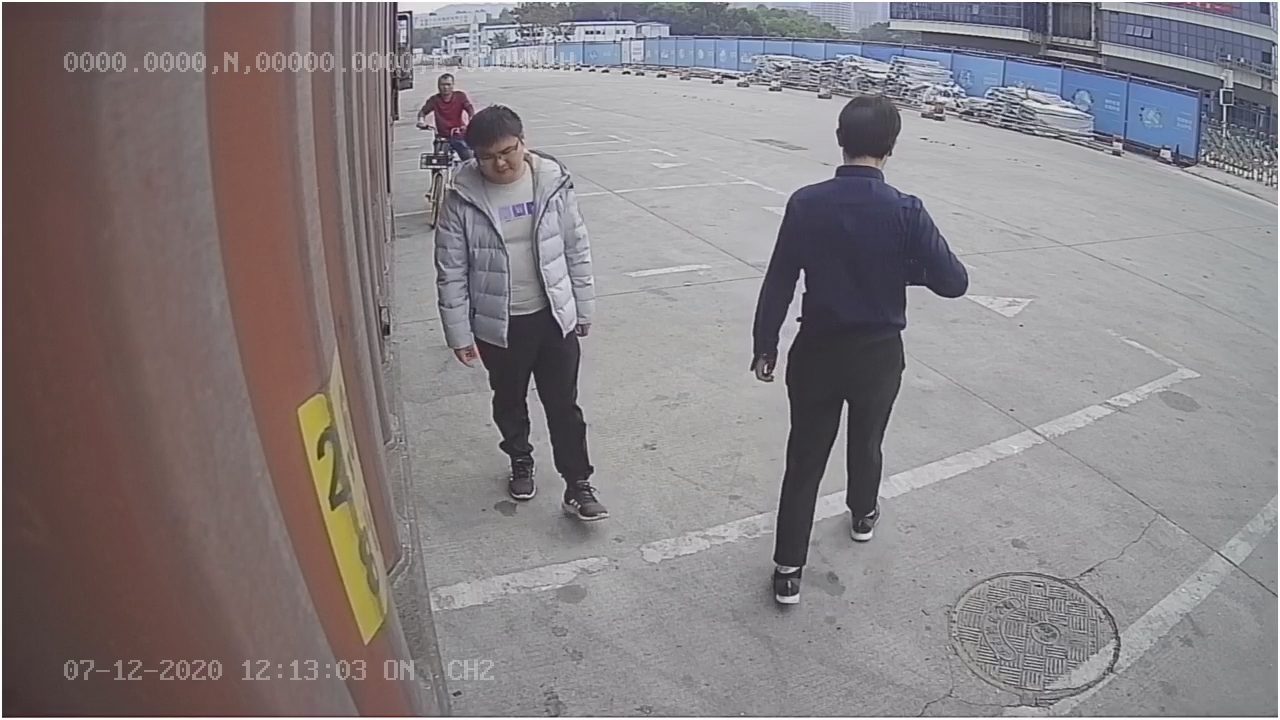person: (748, 90, 972, 603), (423, 98, 620, 535)
